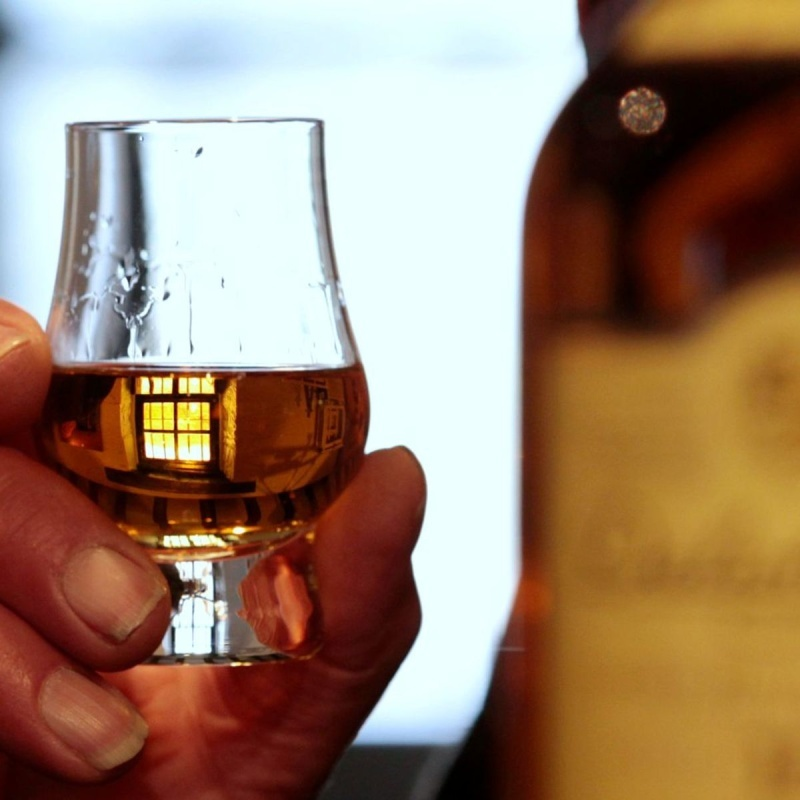whiskey: (58, 110, 371, 548)
